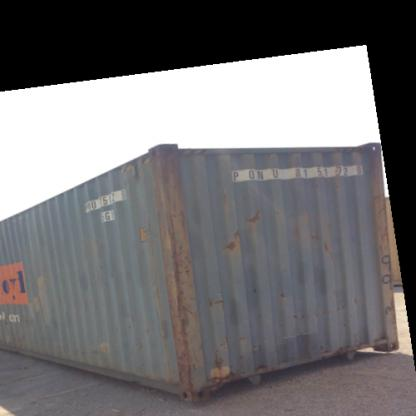Damage: (154, 155, 202, 384), (210, 338, 236, 383), (67, 341, 110, 362), (28, 265, 51, 301), (317, 232, 338, 264), (240, 203, 266, 227), (124, 158, 148, 181), (208, 287, 228, 311), (224, 226, 240, 252), (253, 352, 270, 373)
